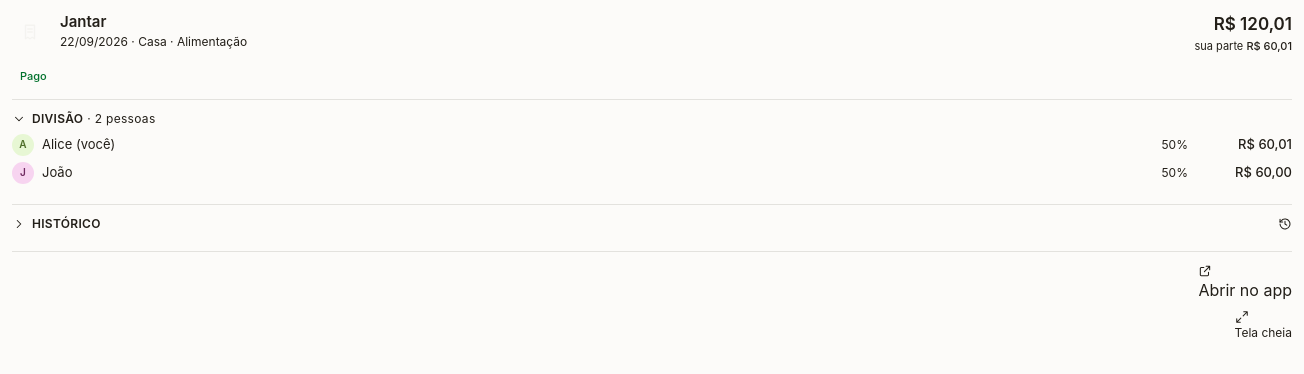
Scenario: Widget: chegada do resultado › oferece tela cheia só quando o host deixa, e pede o modo pela ponte
Click the button "Tela cheia" at (1263, 326), box [1235,310,1292,342]
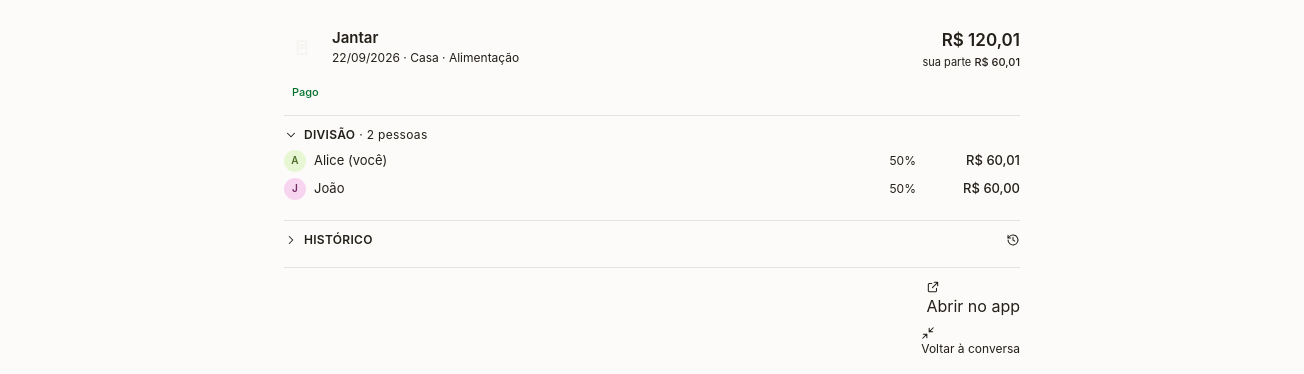
Result: the button "Voltar à conversa" is shown at [921,326,1020,358]
